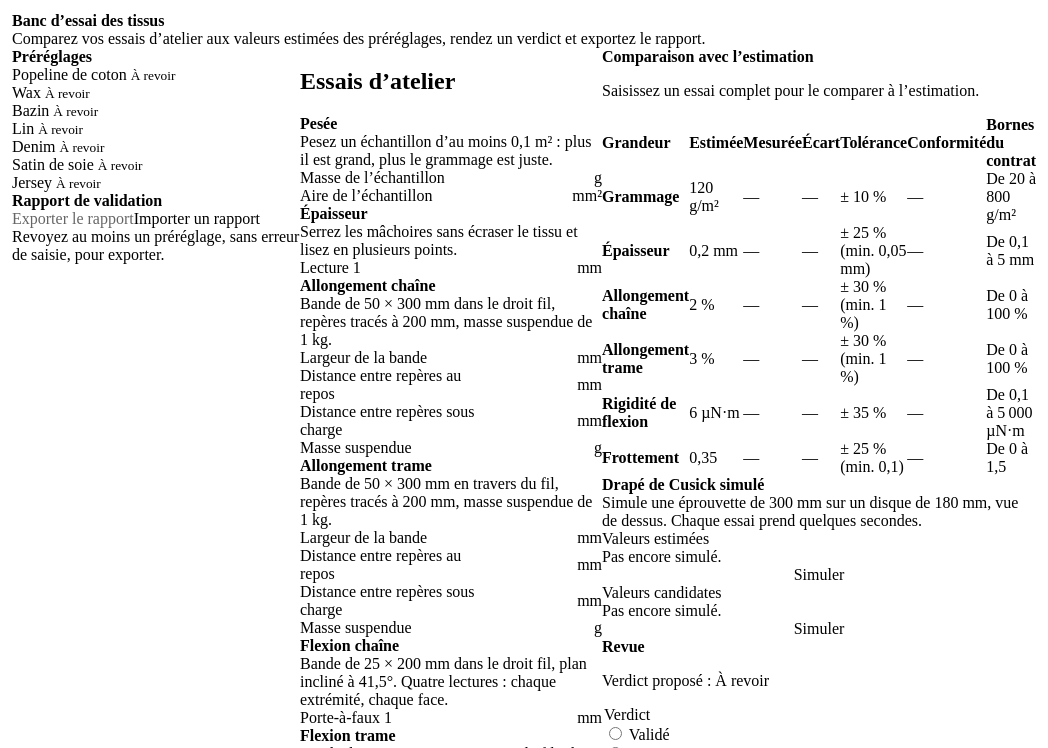
Test: banc d’essai des tissus : essais saisis › essai conforme : écart, conformité, verdict proposé et marque « modifié »
Type "12" into the number field labelled "Masse de l’échantillon".
click(542, 178); type("12")  # box 494,169 -> 590,187
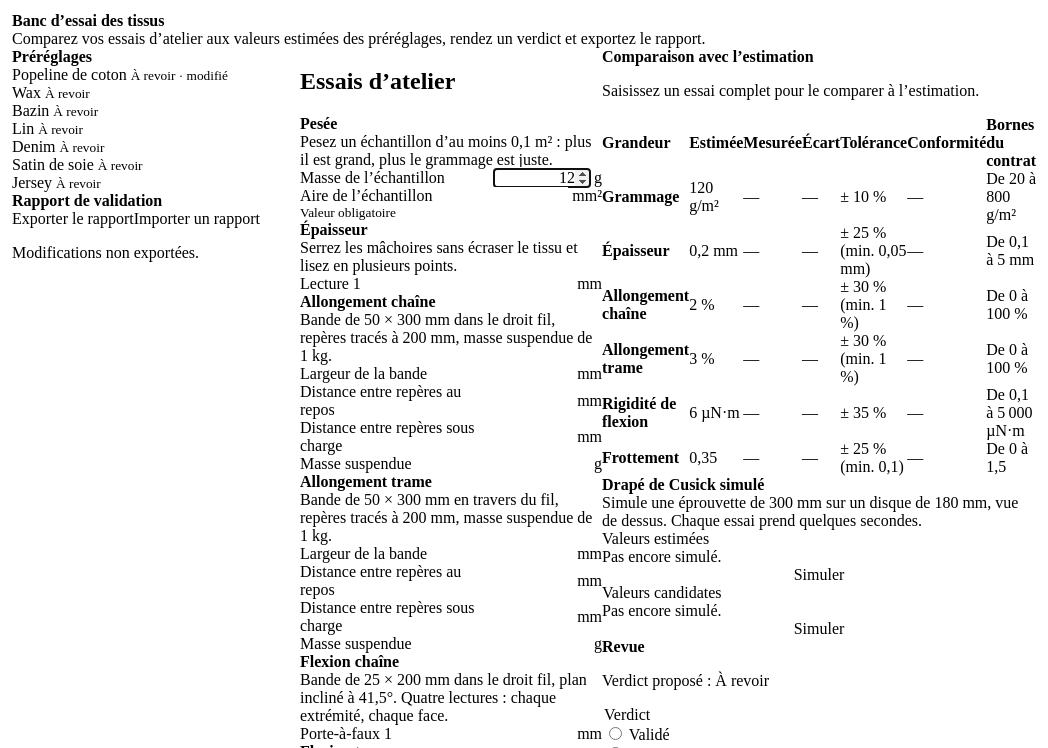
Type "100000" into the number field labelled "Aire de l’échantillon".
click(520, 196); type("100000")  # box 472,187 -> 568,205
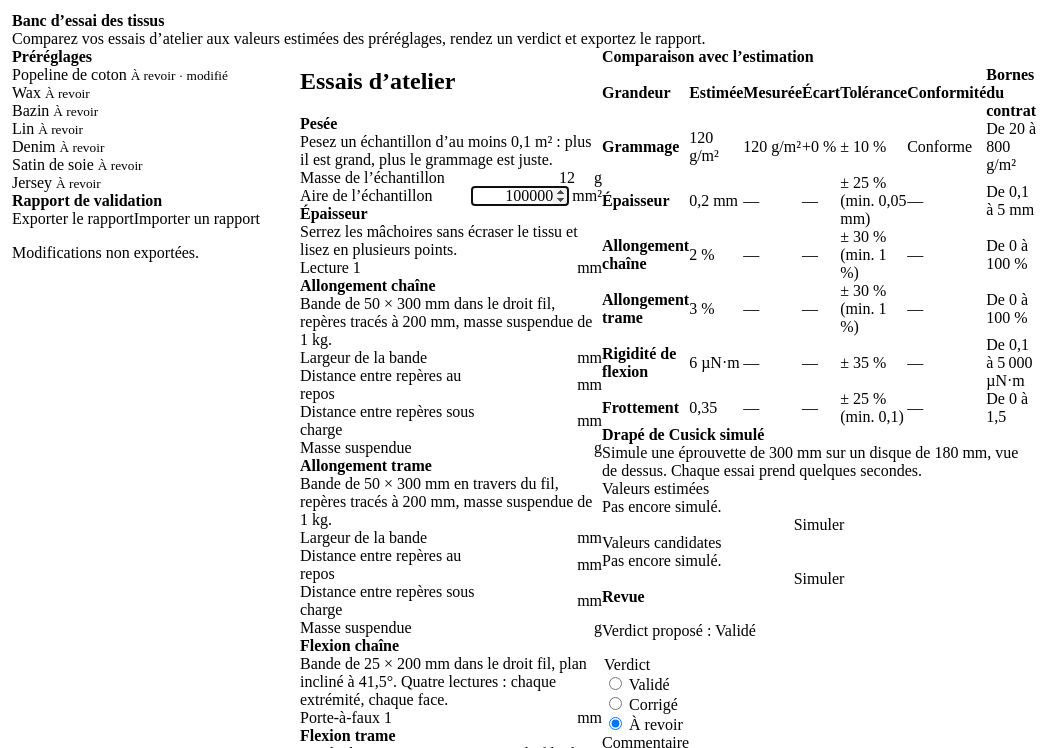
Check: the row "Grammage" shows "Conforme", box 907,138 -> 972,155
Check: the row "Grammage" reads "Grammage 120 g/m² 120 g/m² +0 % ± 10 % Conforme De 20 à 800 g/m²", box 602,120 -> 1036,174
Check: the text "Verdict proposé : Validé" is shown, box 602,622 -> 756,639
